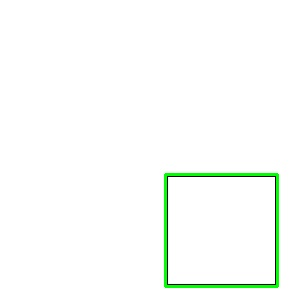line_segment: (164, 173, 279, 288)
